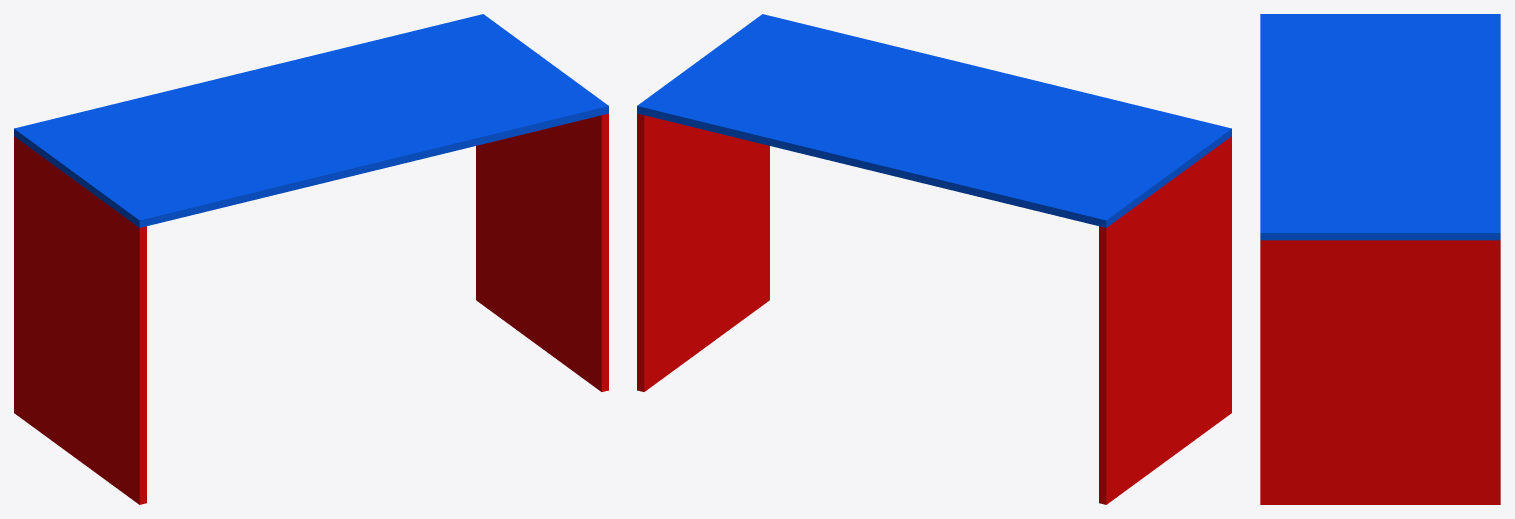
The model's file is hospital_fnt_escritorio3.fbx.
3 renders of one model, left to right at view 1: azimuth 30°, elevation 25°; view 2: azimuth 150°, elevation 25°; view 3: azimuth 270°, elevation 25°, orthographic. The views are drawn at different scales.
Visible parts, largest first — view 1: hospital_fnt_escritorio3; view 2: hospital_fnt_escritorio3; view 3: hospital_fnt_escritorio3.
Boxes of the visible parts, <box> form: hospital_fnt_escritorio3: <box>14,14,608,504</box>; hospital_fnt_escritorio3: <box>637,14,1231,504</box>; hospital_fnt_escritorio3: <box>1260,14,1500,504</box>.
Bounding box in the file's own units: 129 × 75 × 60.
